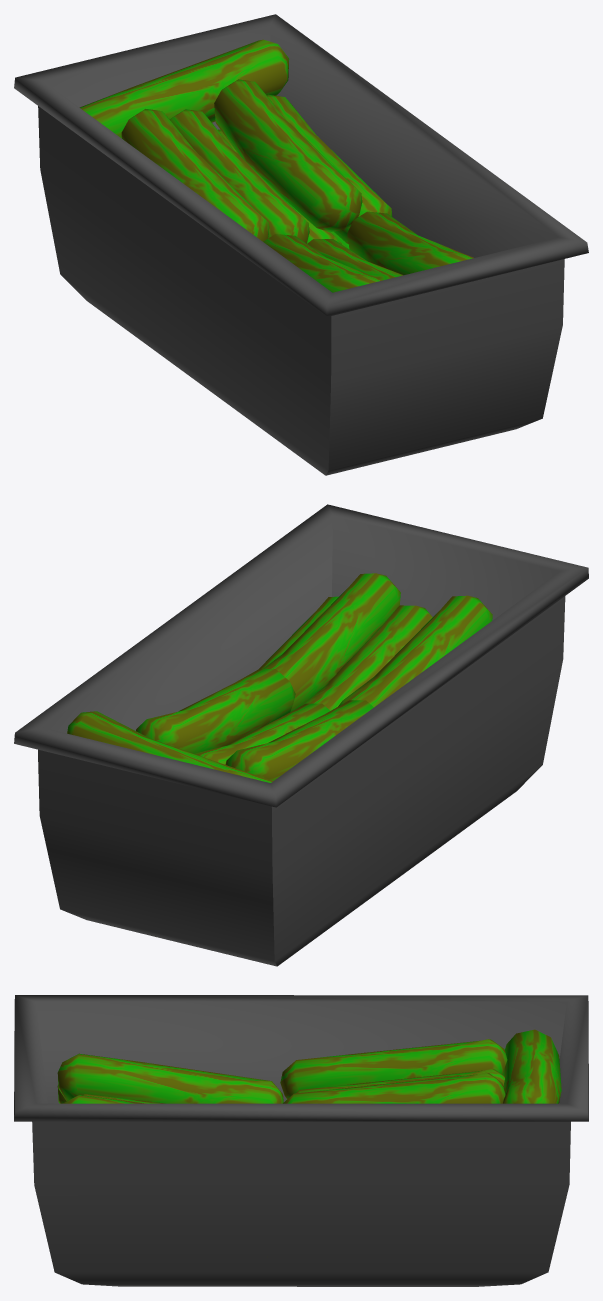
Rendered from CucumberSpawnerblend.fbx.
3 renders of one model, top to bottom at view 1: azimuth 30°, elevation 25°; view 2: azimuth 150°, elevation 25°; view 3: azimuth 270°, elevation 25°, orthographic. The views are drawn at different scales.
Visible parts, largest first — view 1: Sphere.044; view 2: Sphere.044; view 3: Sphere.044.
Boxes of the visible parts, x1,y1,x2,y2 form: Sphere.044: (14,14,588,475); Sphere.044: (14,504,588,966); Sphere.044: (14,995,588,1286).
Bounding box in the file's own units: 241 × 196 × 498.
